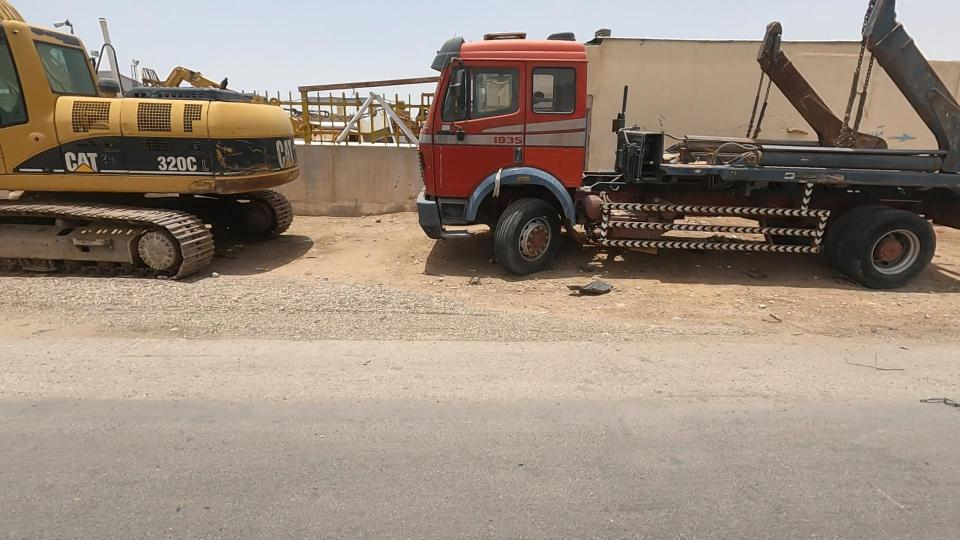GARBAGE: (516, 237, 671, 339)
